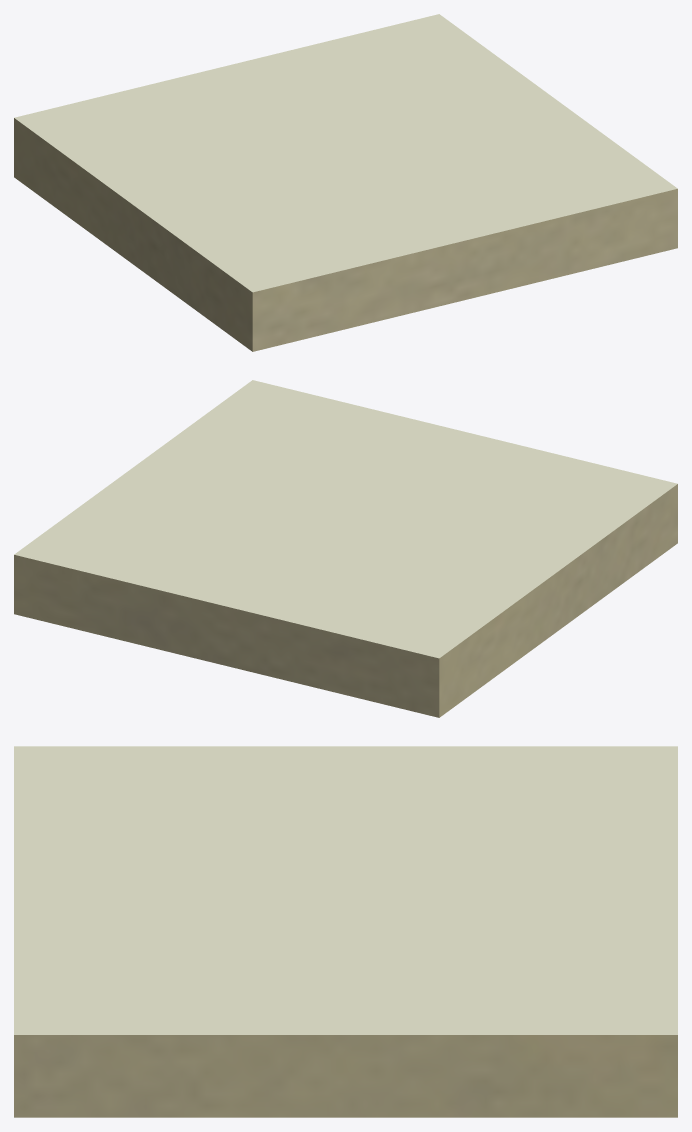
Rendered from office V1 export 1.fbx.
The picture shows the model from 3 angles, top to bottom: view 1: azimuth 30°, elevation 25°; view 2: azimuth 150°, elevation 25°; view 3: azimuth 270°, elevation 25°; orthographic projection. The views are drawn at different scales.
Parts seen in each view (by area): view 1: pCube1; view 2: pCube1; view 3: pCube1.
Part boxes in pixels (left/top/right/bottom): pCube1: left=14, top=14, right=677, bottom=351; pCube1: left=14, top=380, right=677, bottom=717; pCube1: left=14, top=746, right=677, bottom=1117.
Size of the model in its own units: 349 by 48.01 by 339.
Materials: 8 (1 with a texture image).
